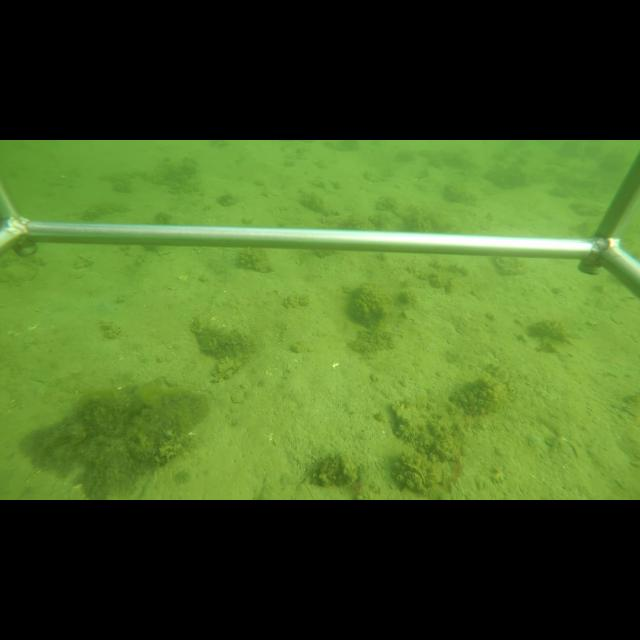Oyster-Closed: (400, 459, 429, 488)
